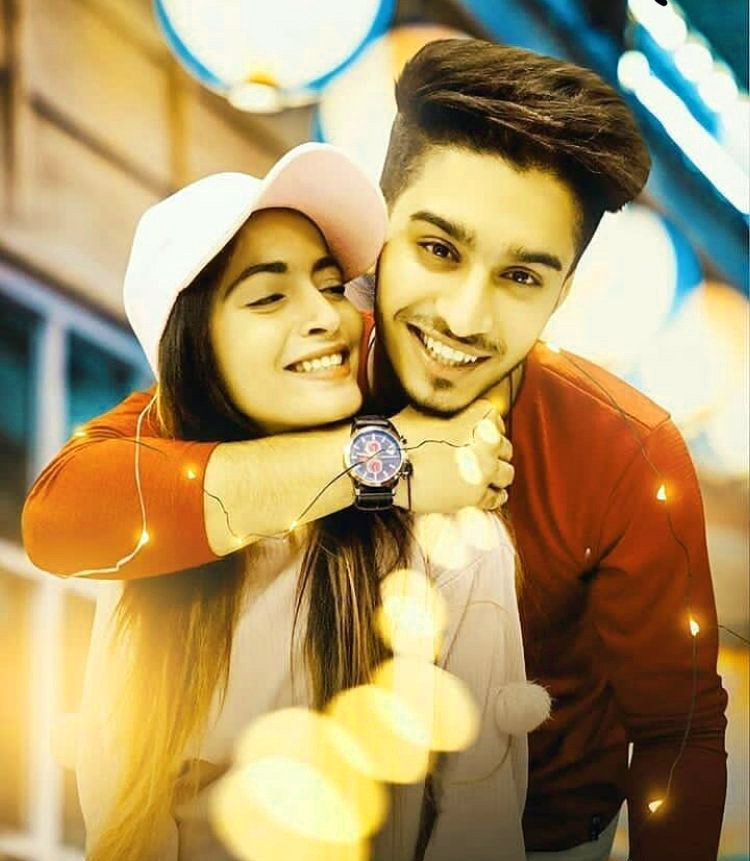noMask: (369, 137, 580, 403), (204, 202, 363, 442)
